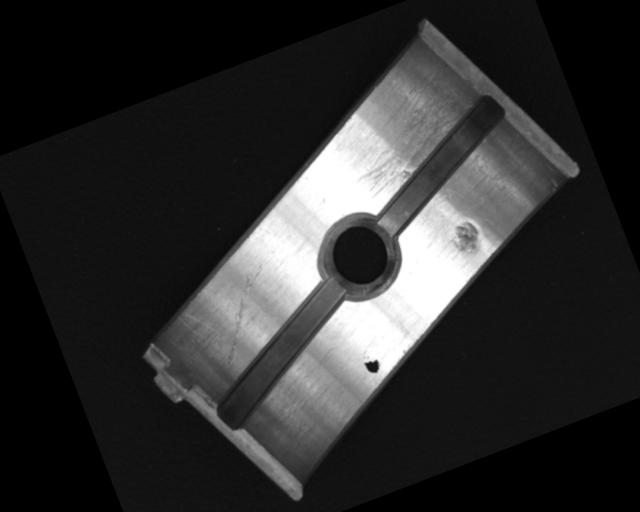blot: (362, 355, 382, 376)
bruise: (446, 218, 484, 257)
gap: (185, 275, 375, 433), (348, 90, 531, 237)
hole: (308, 203, 409, 309)
nick: (194, 261, 293, 368)
scratch: (305, 56, 491, 211)
